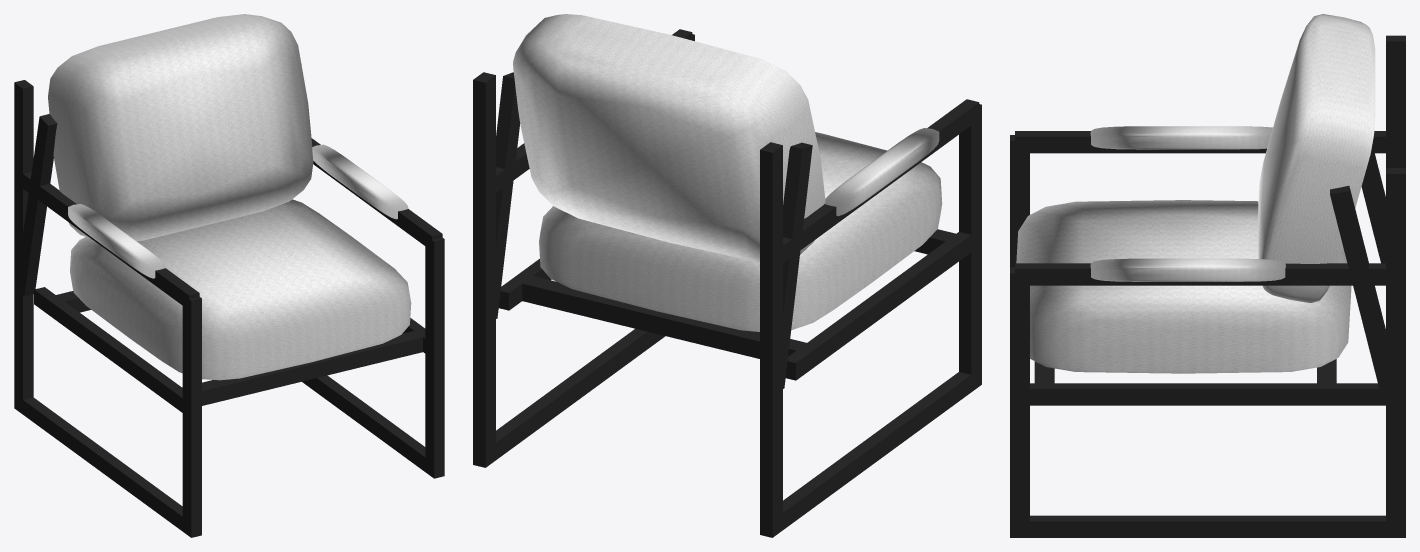
3 renders of one model, left to right at view 1: azimuth 30°, elevation 25°; view 2: azimuth 150°, elevation 25°; view 3: azimuth 270°, elevation 25°, orthographic. The views are drawn at different scales.
Parts seen in each view (by area): view 1: 2 backrest, 1 seat, 7 left_rear_leg, 5 left_front_leg, 6 right_front_leg, 17 front_crossbar, 9 left_bottom_rail, 13 left_seat_rail, 15 left_diagonal_brace, 10 right_bottom_rail, 3 left_armrest_pad, 4 right_armrest_pad (+2 smaller); view 2: 2 backrest, 1 seat, 8 right_rear_leg, 7 left_rear_leg, 18 rear_crossbar, 9 left_bottom_rail, 13 left_seat_rail, 5 left_front_leg, 10 right_bottom_rail, 15 left_diagonal_brace, 16 right_diagonal_brace, 3 left_armrest_pad (+3 smaller); view 3: 1 seat, 2 backrest, 10 right_bottom_rail, 14 right_seat_rail, 8 right_rear_leg, 6 right_front_leg, 12 right_armrest_rail, 4 right_armrest_pad, 16 right_diagonal_brace, 3 left_armrest_pad, 11 left_armrest_rail, 7 left_rear_leg (+2 smaller).
Boxes of the visible parts, <box> form: 2 backrest: <box>48,14,313,241</box>; 1 seat: <box>70,199,411,380</box>; 7 left_rear_leg: <box>14,80,33,414</box>; 5 left_front_leg: <box>182,295,201,537</box>; 6 right_front_leg: <box>425,236,444,478</box>; 17 front_crossbar: <box>182,331,422,405</box>; 9 left_bottom_rail: <box>16,395,182,531</box>; 13 left_seat_rail: <box>34,287,189,417</box>; 15 left_diagonal_brace: <box>16,114,57,296</box>; 10 right_bottom_rail: <box>302,375,431,476</box>; 3 left_armrest_pad: <box>68,204,165,278</box>; 4 right_armrest_pad: <box>312,144,408,219</box>; 2 backrest: <box>513,14,825,262</box>; 1 seat: <box>539,132,942,331</box>; 8 right_rear_leg: <box>473,72,495,467</box>; 7 left_rear_leg: <box>760,142,782,537</box>; 18 rear_crossbar: <box>522,276,806,358</box>; 9 left_bottom_rail: <box>776,369,979,534</box>; 13 left_seat_rail: <box>785,229,979,380</box>; 5 left_front_leg: <box>959,104,981,386</box>; 10 right_bottom_rail: <box>488,328,665,459</box>; 15 left_diagonal_brace: <box>774,142,812,392</box>; 16 right_diagonal_brace: <box>487,72,520,322</box>; 3 left_armrest_pad: <box>824,128,939,216</box>; 1 seat: <box>1016,200,1351,373</box>; 2 backrest: <box>1258,14,1375,302</box>; 10 right_bottom_rail: <box>1015,515,1400,537</box>; 14 right_seat_rail: <box>1015,383,1361,405</box>; 8 right_rear_leg: <box>1386,168,1405,537</box>; 6 right_front_leg: <box>1010,267,1029,537</box>; 12 right_armrest_rail: <box>1015,263,1400,285</box>; 4 right_armrest_pad: <box>1090,258,1285,281</box>; 16 right_diagonal_brace: <box>1330,185,1401,404</box>; 3 left_armrest_pad: <box>1090,126,1272,149</box>; 11 left_armrest_rail: <box>1015,131,1400,153</box>; 7 left_rear_leg: <box>1386,35,1405,167</box>.
Size of the model in its own units: 0.6553 by 0.8788 by 0.7696.
2 materials, 1 textured.
